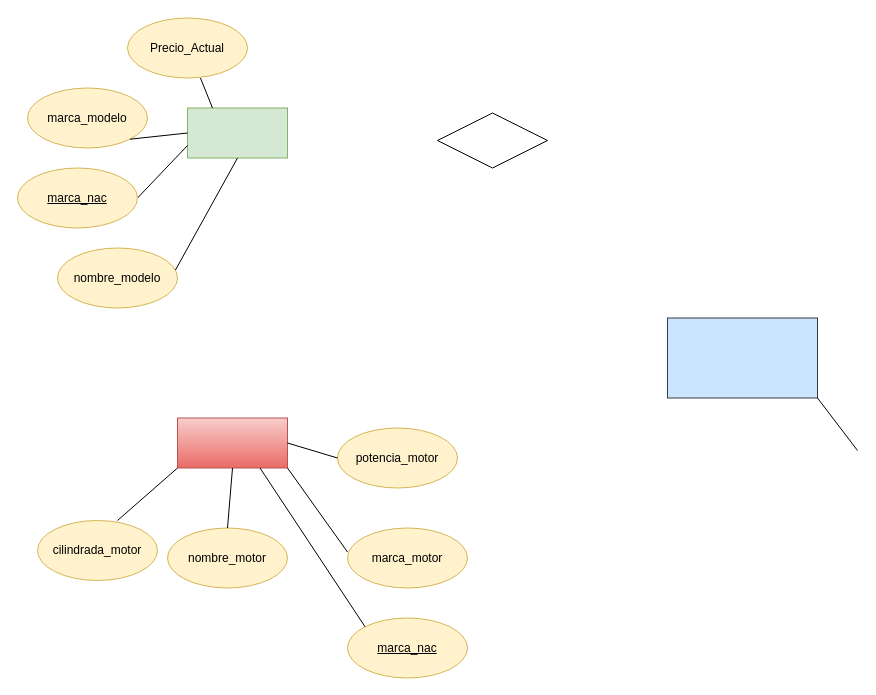
Some shapes in this 876 by 695 pixel diagram are drawn without their labels. The shapes that lost their labels are listed below. From the top down, each one's centre as x and y in pixels, then its label:
the point at 237,132: ModeloDelAuto
the point at 492,140: se quiere saber
the point at 742,357: Accesorio
the point at 232,442: Motor
